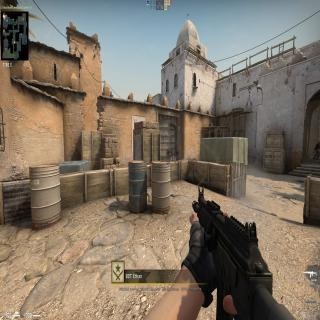T-Head: (318, 141, 320, 144)
